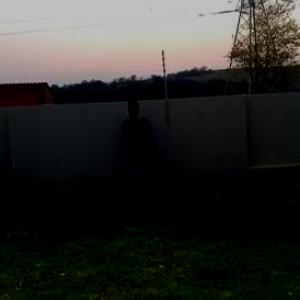follow: (123, 97, 157, 210)
